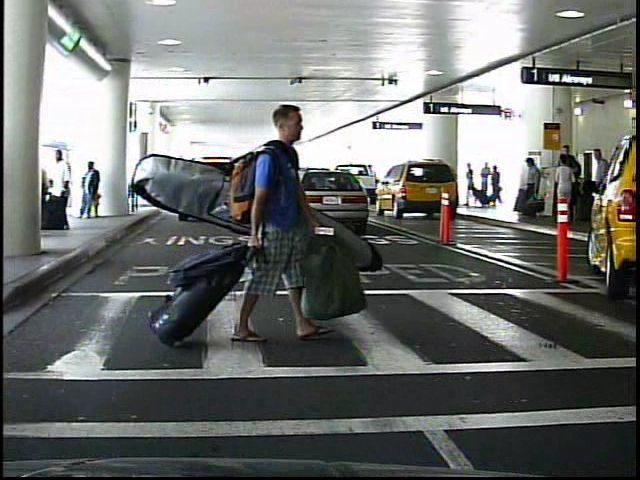person: (244, 95, 339, 362), (42, 146, 75, 232), (587, 146, 611, 224), (77, 158, 104, 225), (556, 143, 578, 221), (553, 155, 576, 225), (520, 157, 543, 222), (463, 160, 477, 208), (480, 161, 493, 209), (489, 162, 500, 206)
